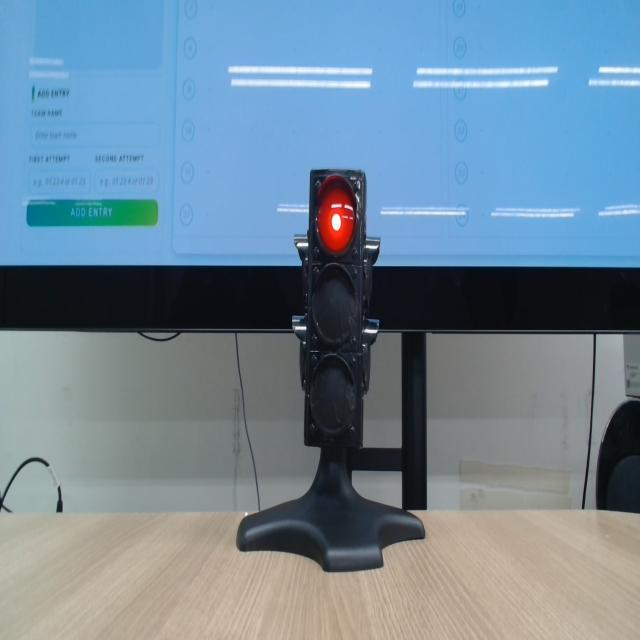red_light: (317, 176, 355, 255)
